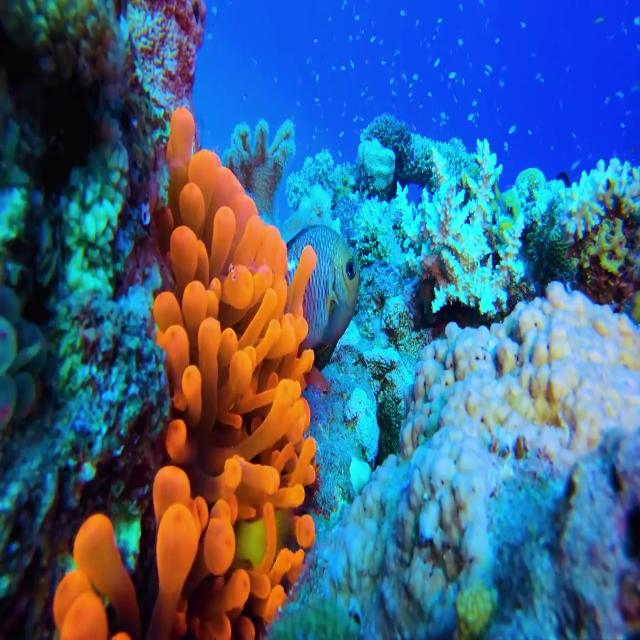fish: (281, 212, 368, 369)
